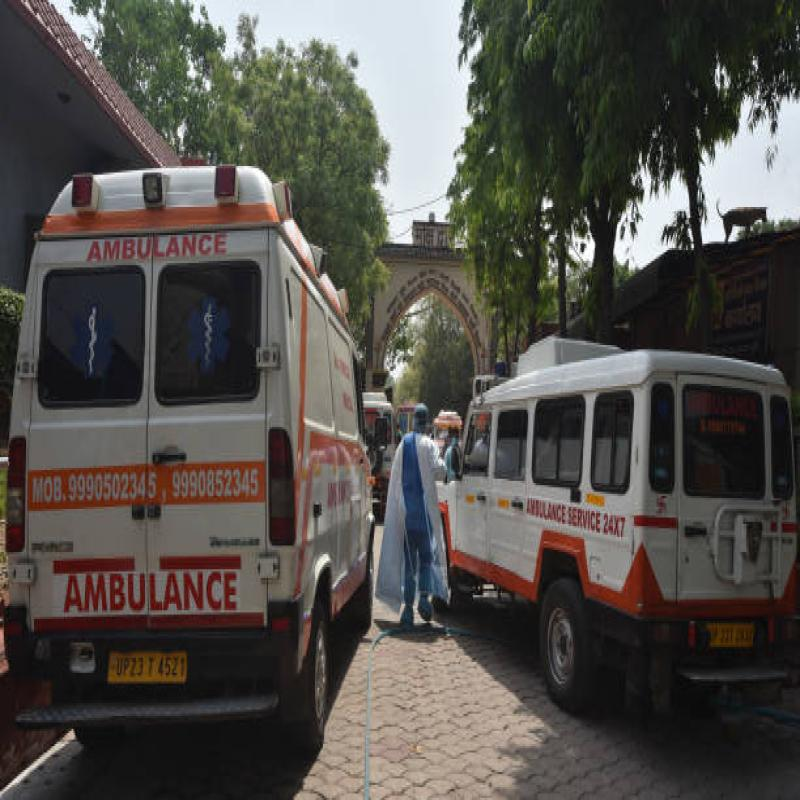ambulance: (0, 148, 372, 718)
